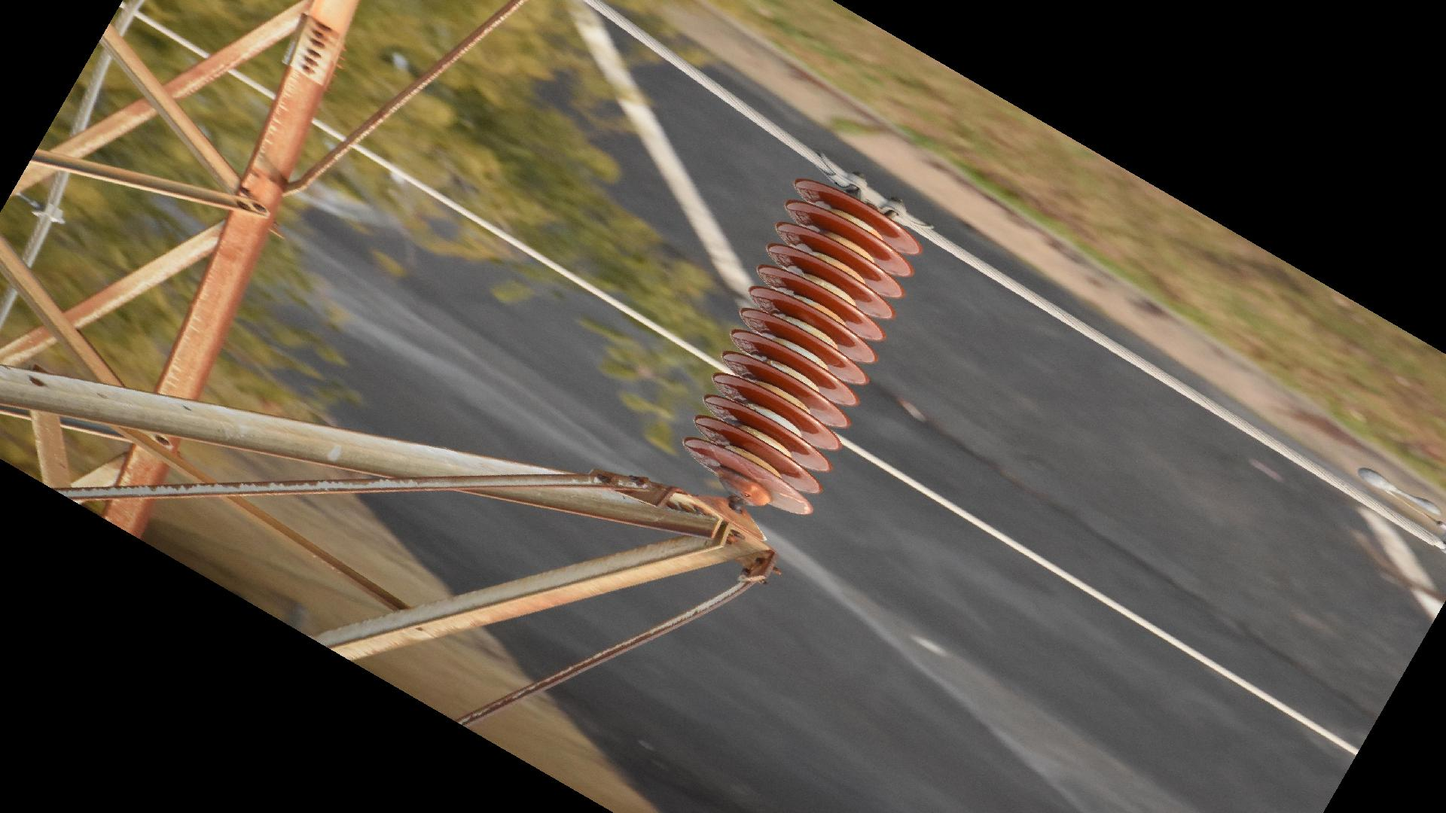insulator: (678, 172, 929, 525)
insulator_flashover: (767, 488, 810, 516)
